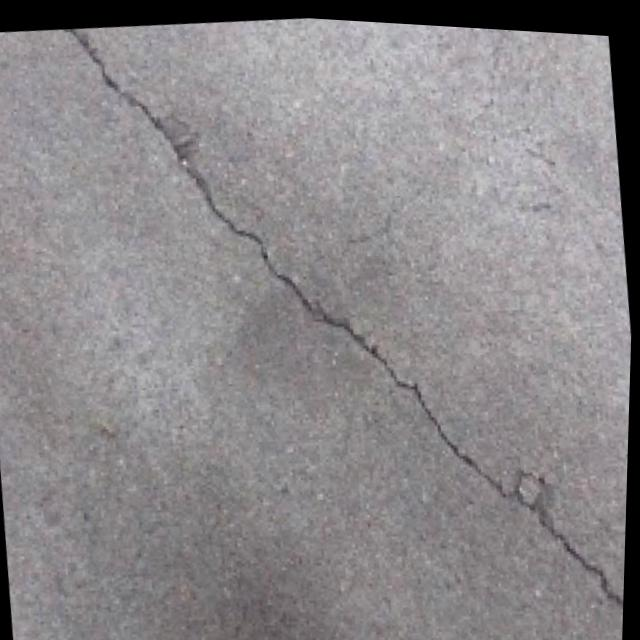Crack: (35, 2, 640, 640)
